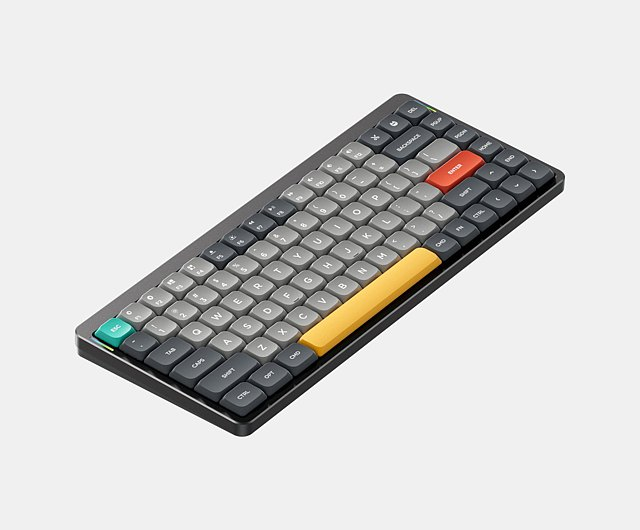keyboard: (61, 81, 586, 443)
